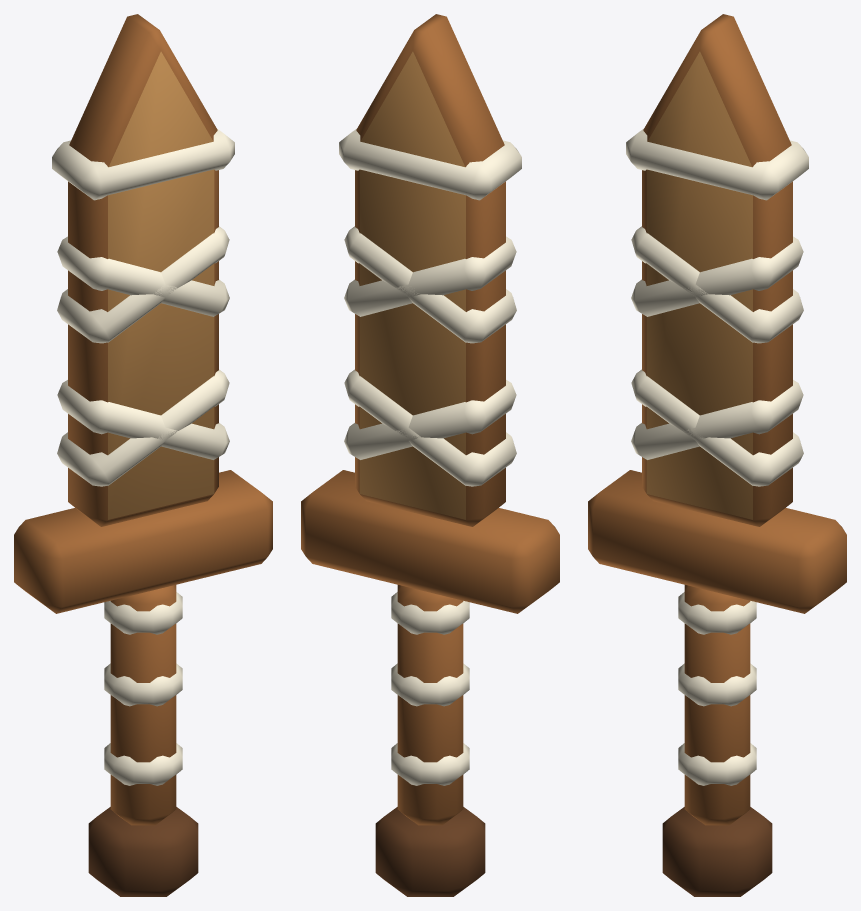
The model's file is G_MedSword_2.fbx.
3 renders of one model, left to right at view 1: azimuth 30°, elevation 25°; view 2: azimuth 150°, elevation 25°; view 3: azimuth 330°, elevation 25°, orthographic.
Parts seen in each view (by area): view 1: M_Sword_2; view 2: M_Sword_2; view 3: M_Sword_2.
Boxes of the visible parts, x1,y1,x2,y2 form: M_Sword_2: (14,14,272,896); M_Sword_2: (301,14,559,896); M_Sword_2: (588,14,846,896).
Bounding box in the file's own units: 0.3 × 1.08 × 0.125.
1 material, 1 textured.
